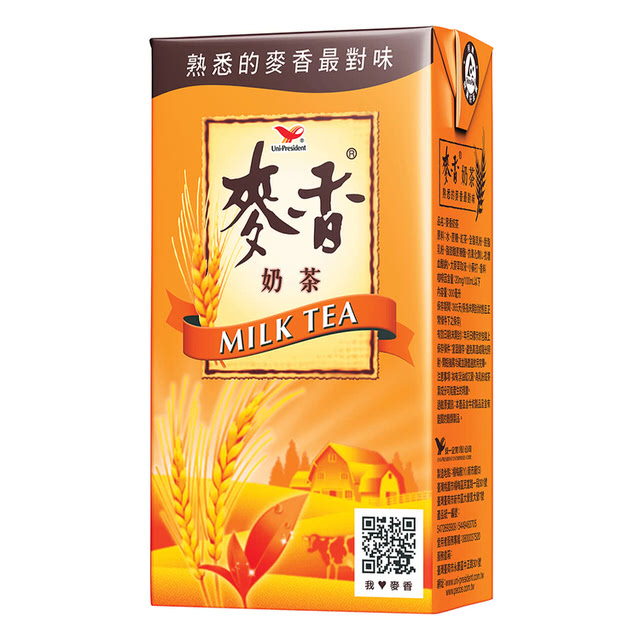milk tea: (147, 35, 498, 614)
